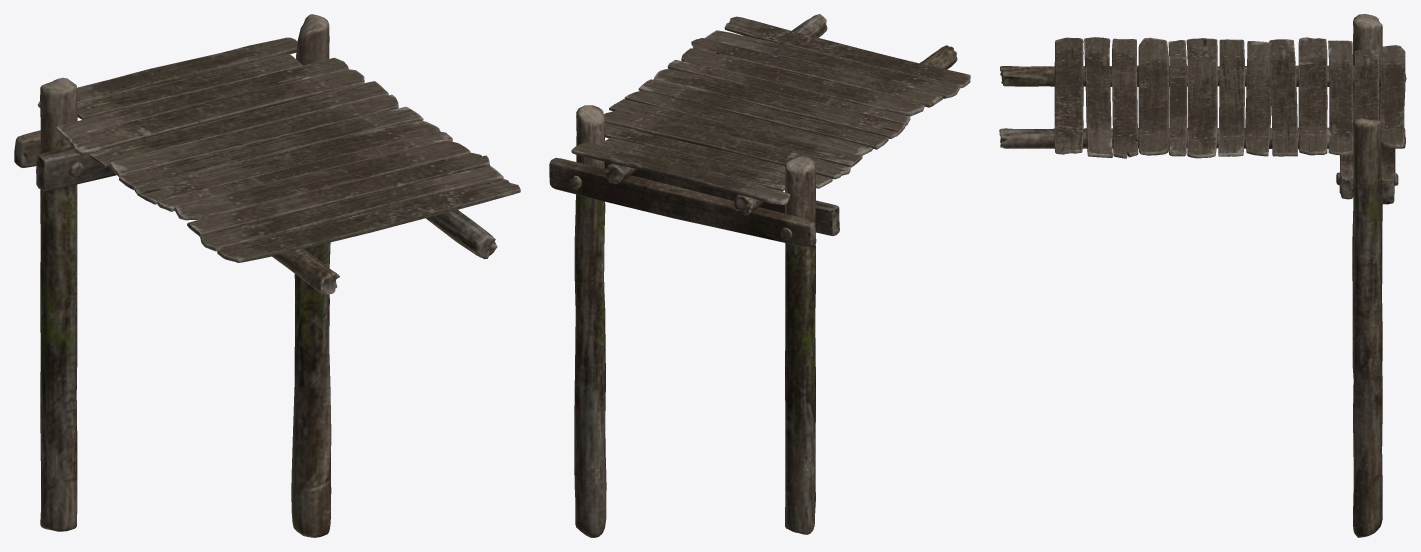
Rendered from wooden_bridge.glb.
3 views of the same model, side by side, from view 1: azimuth 30°, elevation 25°; view 2: azimuth 150°, elevation 25°; view 3: azimuth 270°, elevation 25° (orthographic). The views are drawn at different scales.
Parts seen in each view (by area): view 1: modular_wooden_pier_section_02; view 2: modular_wooden_pier_section_02; view 3: modular_wooden_pier_section_02.
Part boxes in pixels (x1,y1,x2,y2): modular_wooden_pier_section_02: [14, 14, 520, 537]; modular_wooden_pier_section_02: [549, 14, 970, 537]; modular_wooden_pier_section_02: [999, 14, 1406, 537].
Bounding box in the file's own units: 2.51 × 3.84 × 3.39.
Materials: 2 (2 with a texture image).
